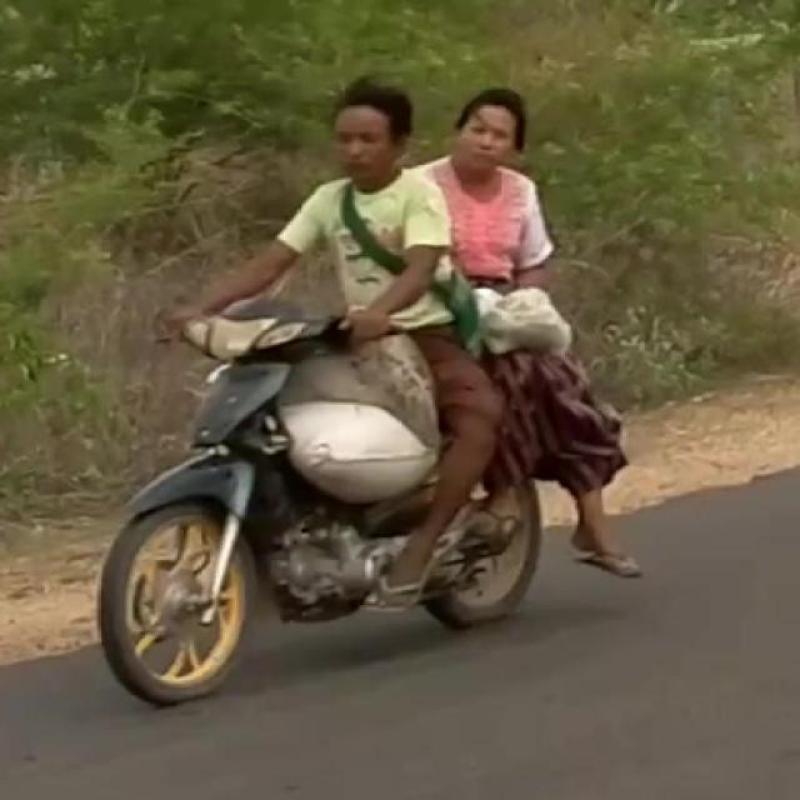nohelmet: (420, 48, 538, 202), (288, 61, 418, 200)
